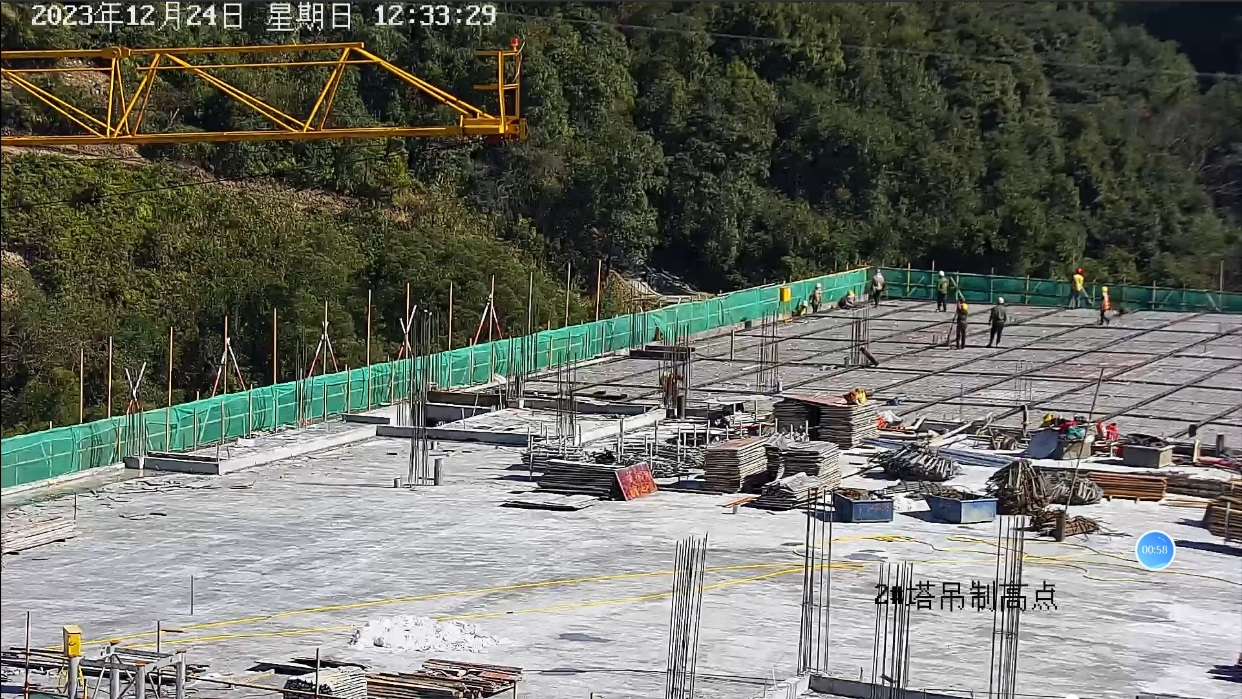person: (987, 296, 1007, 348), (1063, 264, 1085, 310), (955, 302, 969, 348), (870, 265, 885, 305), (1097, 284, 1112, 323), (936, 270, 949, 311), (808, 281, 825, 312)
